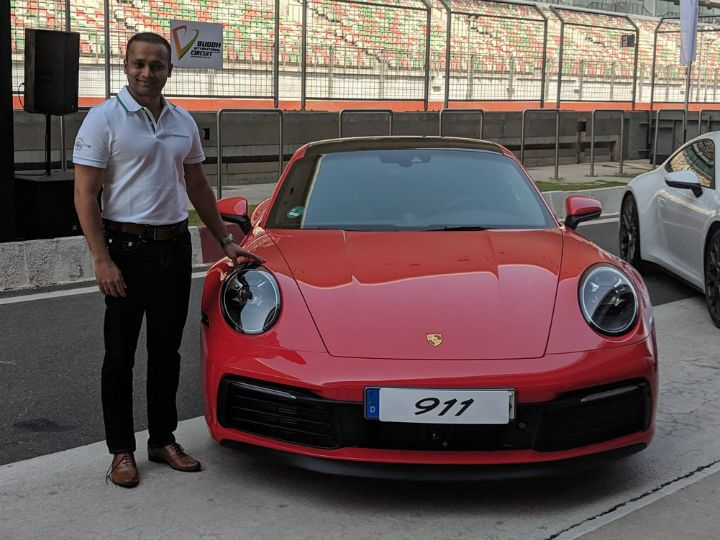number_plate: (361, 383, 518, 426)
